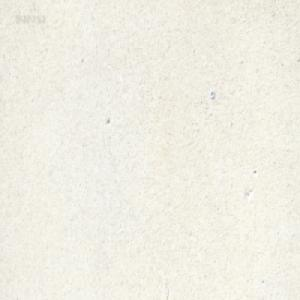Washer: (209, 89, 215, 99)
